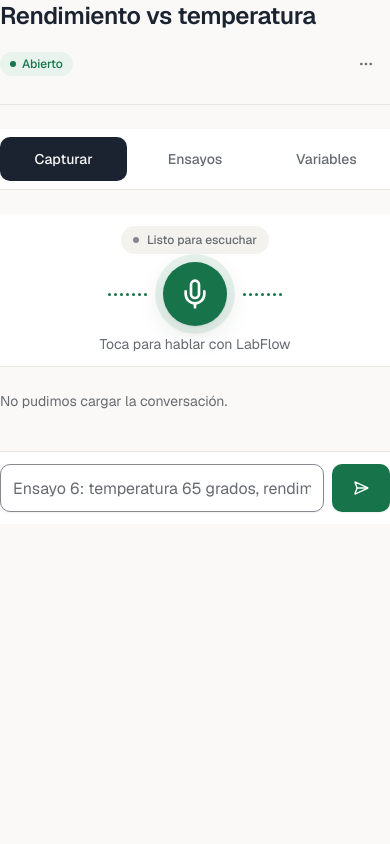
Test: NotebookView on the phone (spec 0010, AC-2) › opens Más as a sheet with the goal and both header actions
Click the button named "Más": (366, 64) [342,40,389,88]
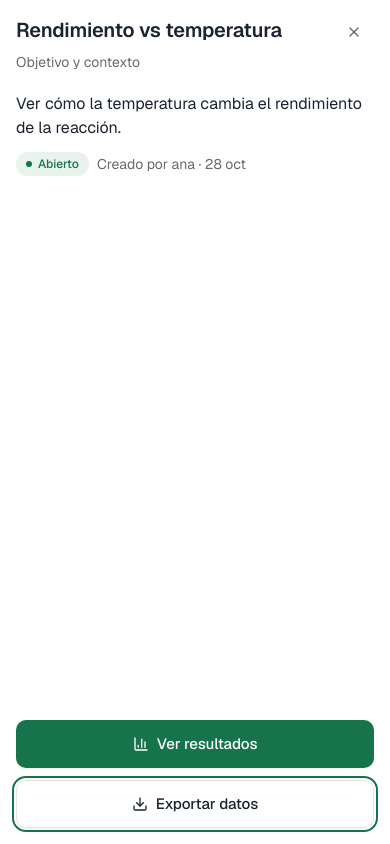
Now the text "Ver cómo la temperatura cambia el rendimiento de la reacción." is shown, box [16,92,374,140]
Now the button "Exportar datos" is shown, box [16,780,374,828]
